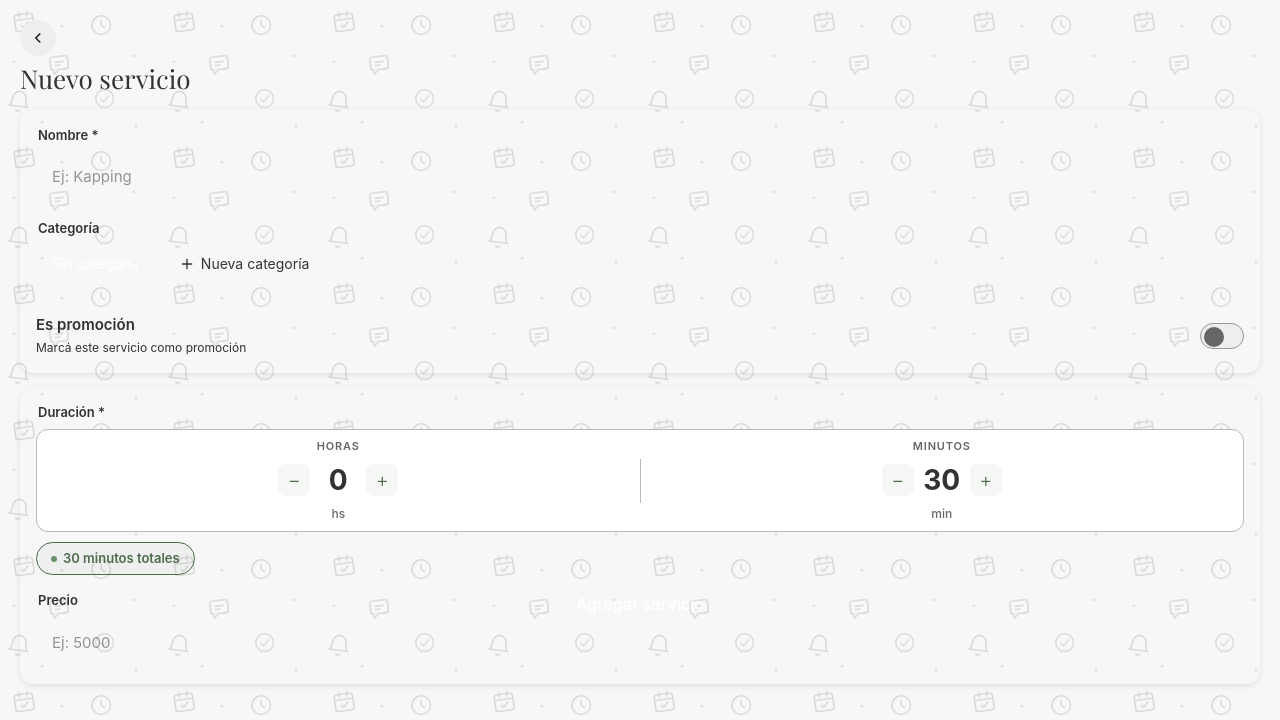
NuevoServicioPage — promo first, duration and price only when they apply › promo on with 2+ active professionals: only the components section, no duration nor price
The image size is (1280, 720).
Type "Combo" into the field with placeholder "Ej: Kapping" at point(640, 178), box 36,152 -> 1244,203
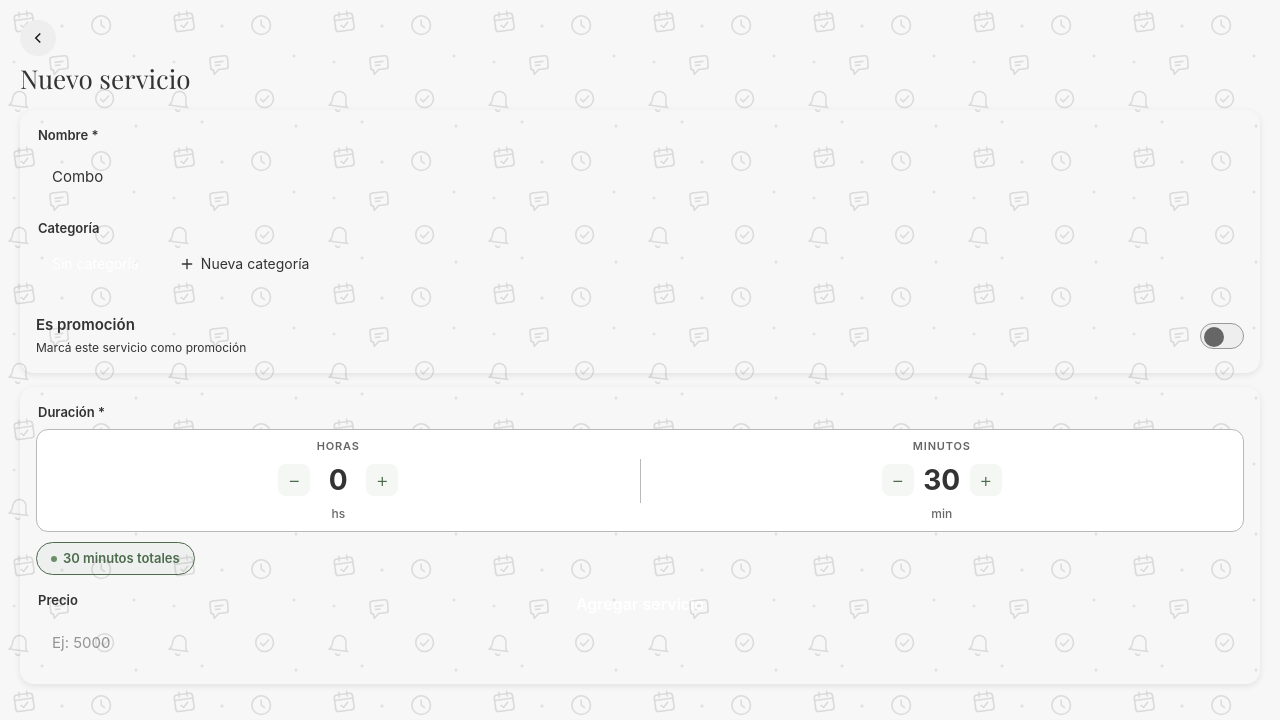
Click the switch at point(1222, 336), box 1200,323 -> 1244,349
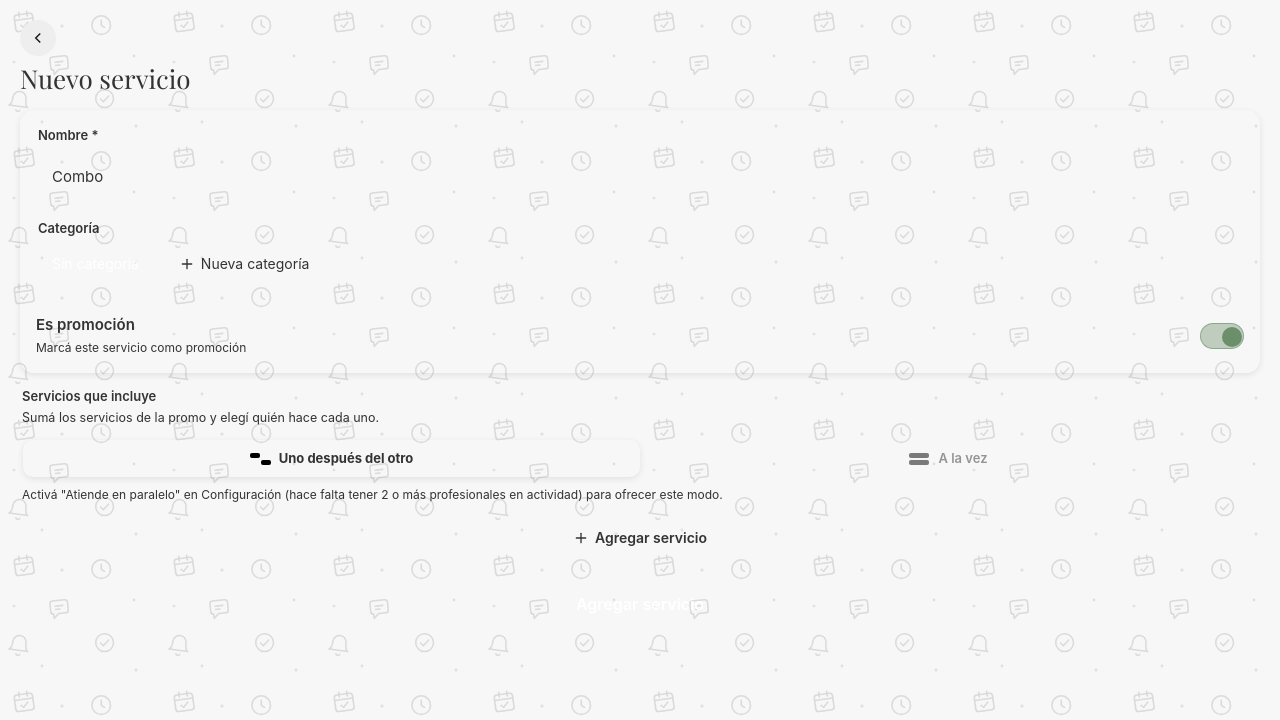
Result: the text "Servicios que incluye" is shown at 22,388 -> 156,404
Result: the text "Duración *" is gone
Result: the text "Precio" is gone
